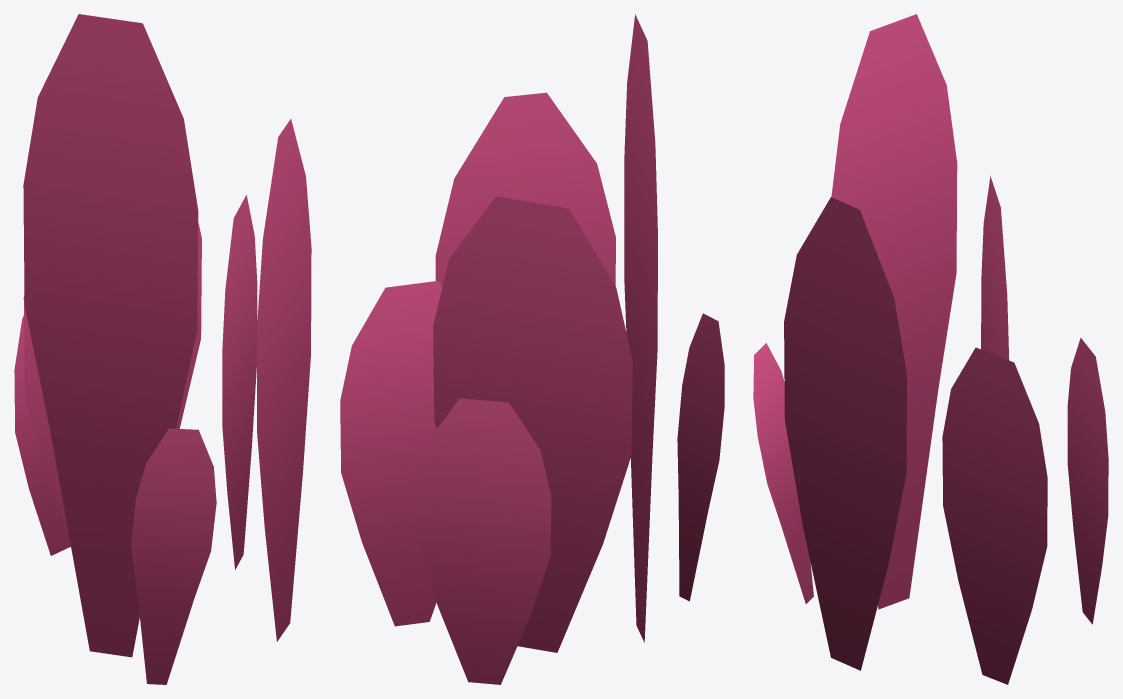
File: Grama1.fbx
3 renders of one model, left to right at view 1: azimuth 30°, elevation 25°; view 2: azimuth 150°, elevation 25°; view 3: azimuth 270°, elevation 25°, orthographic. The views are drawn at different scales.
Visible parts, largest first — view 1: Plane.003; view 2: Plane.003; view 3: Plane.003.
Boxes of the visible parts, x1,y1,x2,y2 form: Plane.003: (14, 14, 311, 684); Plane.003: (340, 14, 724, 684); Plane.003: (753, 14, 1108, 684).
Size of the model in its own units: 39.95 by 85.63 by 47.45.
1 material, 1 textured.
